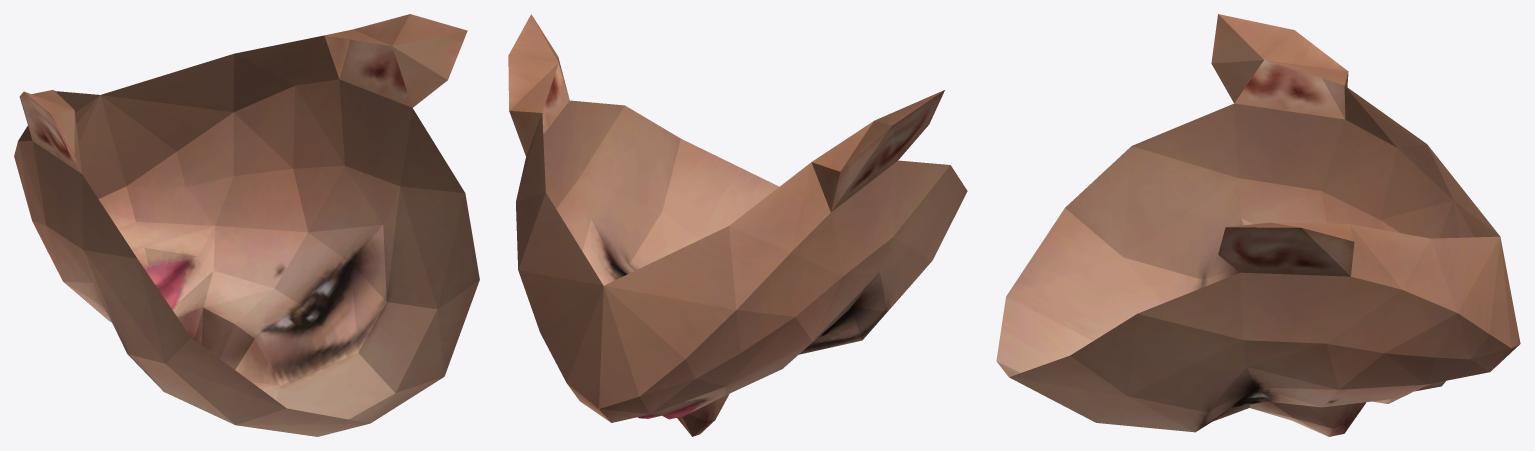
File: common_face_female_2302.obj
The picture shows the model from 3 angles, left to right: view 1: azimuth 30°, elevation 25°; view 2: azimuth 150°, elevation 25°; view 3: azimuth 270°, elevation 25°; orthographic projection. The views are drawn at different scales.
Visible parts, largest first — view 1: ????A; view 2: ????A; view 3: ????A.
Boxes of the visible parts, left/top/right/bottom form: ????A: left=14, top=14, right=479, bottom=436; ????A: left=508, top=14, right=967, bottom=436; ????A: left=996, top=14, right=1520, bottom=436.
Size of the model in its own units: 7.06 by 5.72 by 8.12.
1 material, 1 textured.
